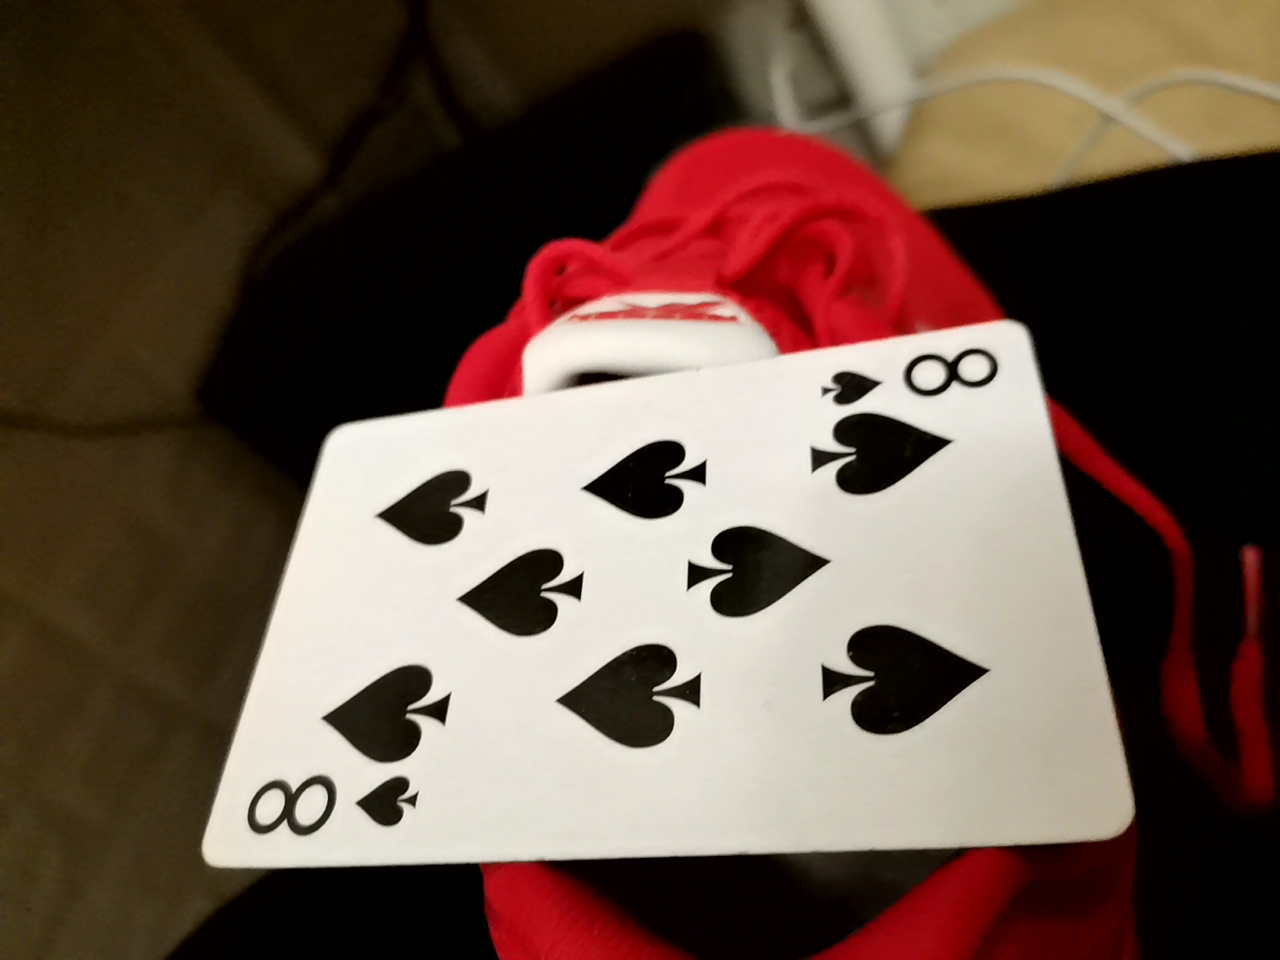ht 8: (141, 323, 1140, 869)
